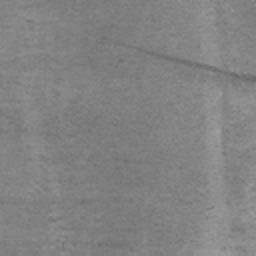Finishing roll printing: (141, 47, 256, 84)
